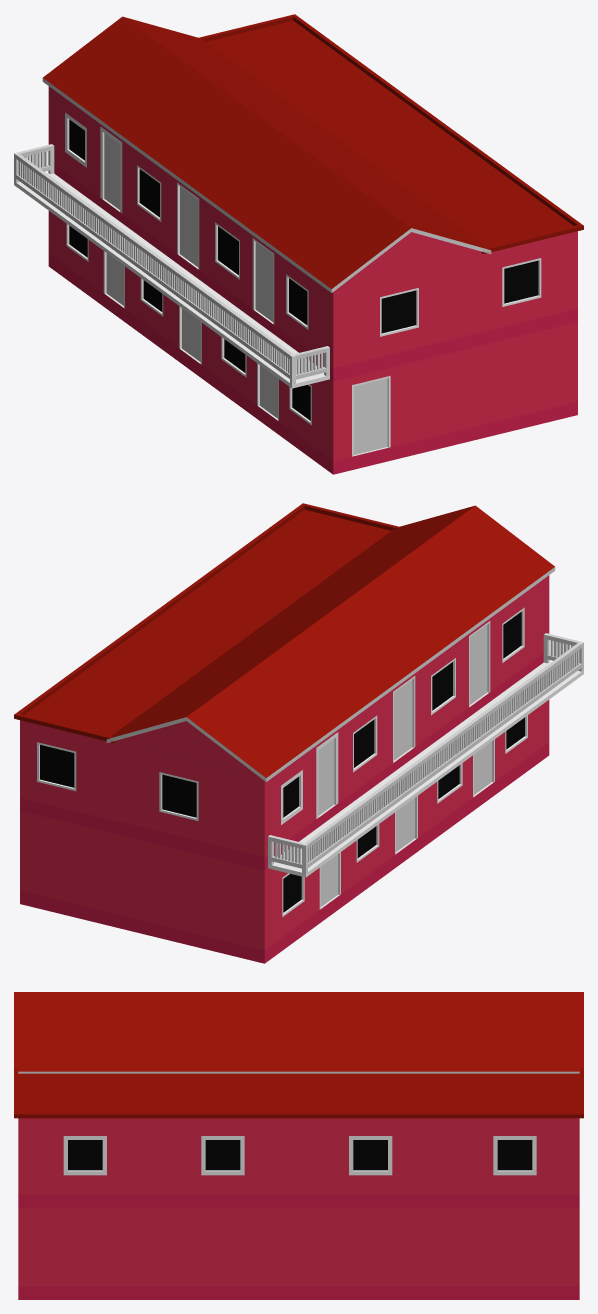
File: Mabati apartment 1.fbx
The picture shows the model from 3 angles, top to bottom: view 1: azimuth 30°, elevation 25°; view 2: azimuth 150°, elevation 25°; view 3: azimuth 270°, elevation 25°; orthographic projection.
Visible parts, largest first — view 1: building_003; view 2: building_003; view 3: building_003.
Part boxes in pixels (bbox=[...]): building_003: bbox=[14, 14, 583, 474]; building_003: bbox=[14, 503, 583, 963]; building_003: bbox=[14, 992, 583, 1299].
Size of the model in its own units: 754 by 578 by 1318.
